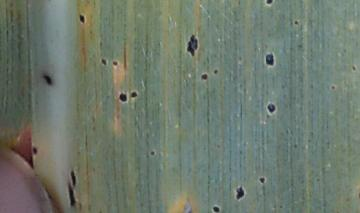tarspot: (186, 35, 199, 57), (66, 185, 76, 205), (265, 50, 275, 68), (235, 187, 245, 201), (42, 74, 52, 86), (118, 92, 127, 103), (267, 103, 276, 114), (70, 171, 76, 186), (129, 90, 138, 99), (78, 14, 86, 24), (200, 73, 209, 81), (259, 175, 266, 184), (211, 206, 220, 213), (149, 149, 156, 156), (212, 69, 220, 75), (330, 83, 336, 91), (101, 58, 107, 65), (32, 147, 38, 154), (266, 1, 274, 6), (293, 20, 299, 26), (351, 65, 357, 71), (111, 60, 118, 65)
